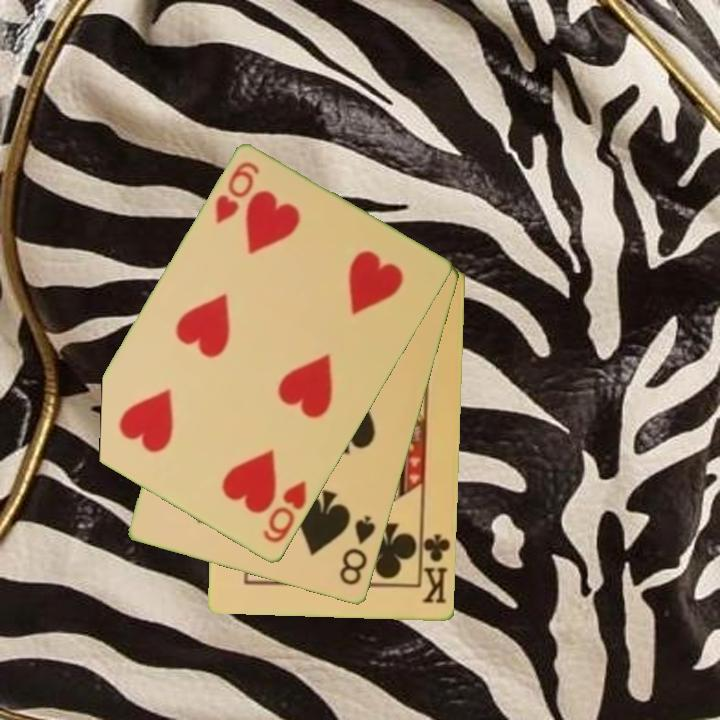6h: (211, 158, 263, 228), (259, 477, 310, 547)
8s: (336, 512, 379, 589)
Kc: (417, 527, 454, 607)
